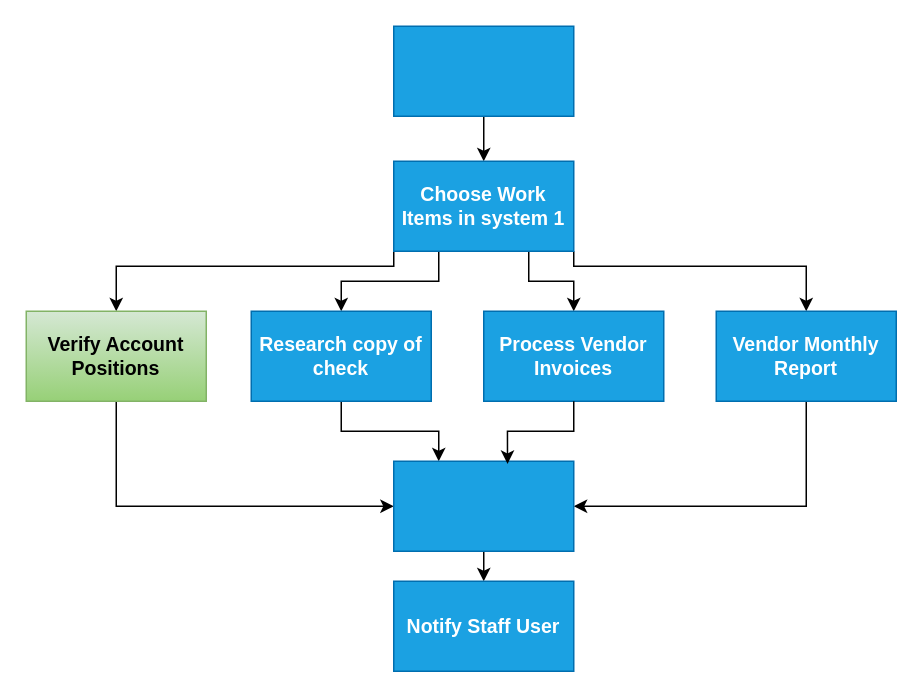
The diagram is 923 pixels wide and 698 high, and some of its shapes have lost their labels. Here are the shapes that lost their labels. From the top down, the box of each, then its label:
(392, 25, 574, 116): Log in to System 1, System 3
(392, 460, 574, 551): Update Task
